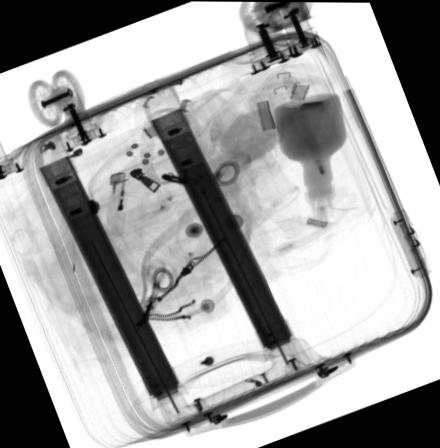Lighter: (104, 172, 129, 237)
